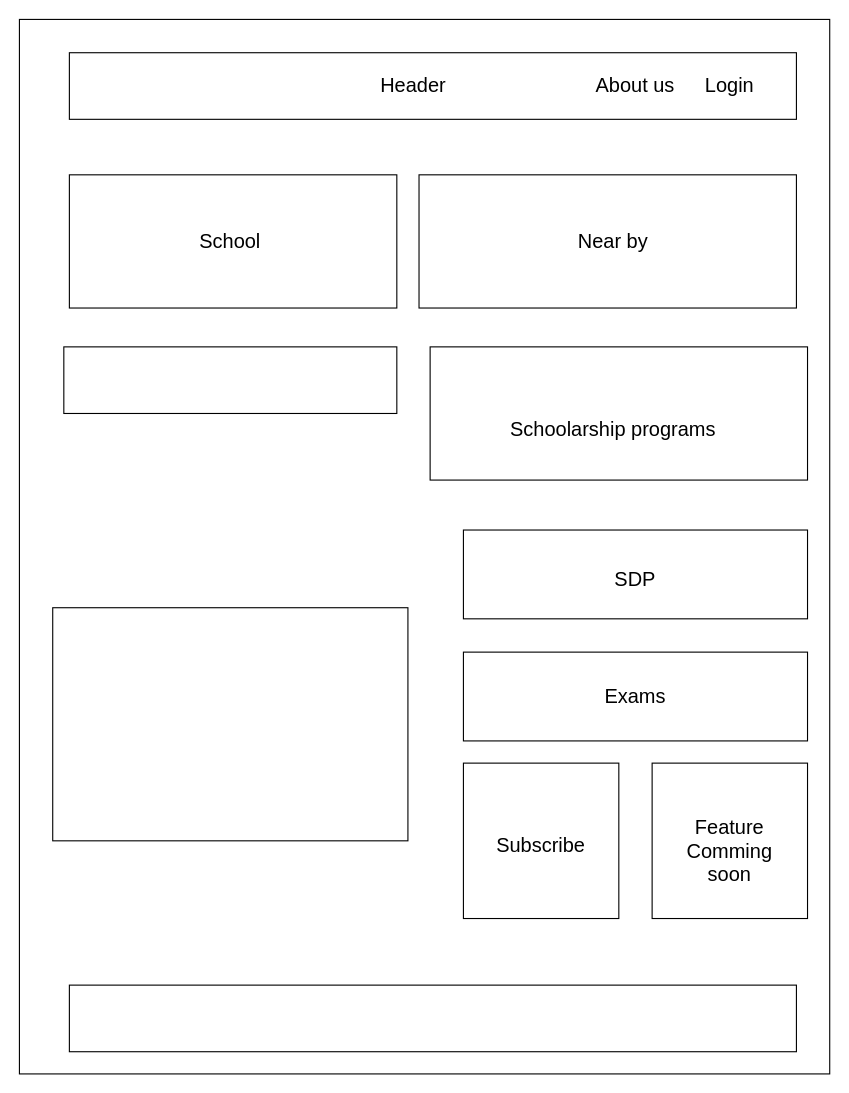
This 849x1093 diagram has some shape labels left out. The shapes that lost their labels are listed below. From the top down, each one's centre as x and y in pixels, then its label:
At pixel 230 379: "Events".
At pixel 230 724: "Buy Items".
At pixel 432 1018: "cschool @ 2023".
